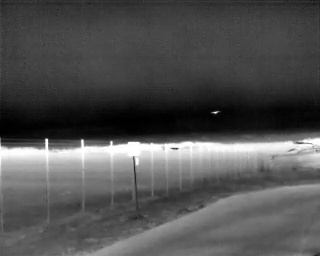AIRPLANE: (210, 108, 221, 116)
